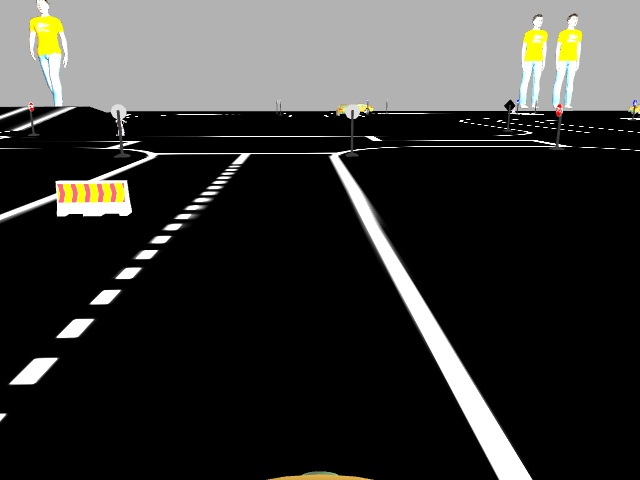ClosedRoadStand: (55, 182, 131, 215)
